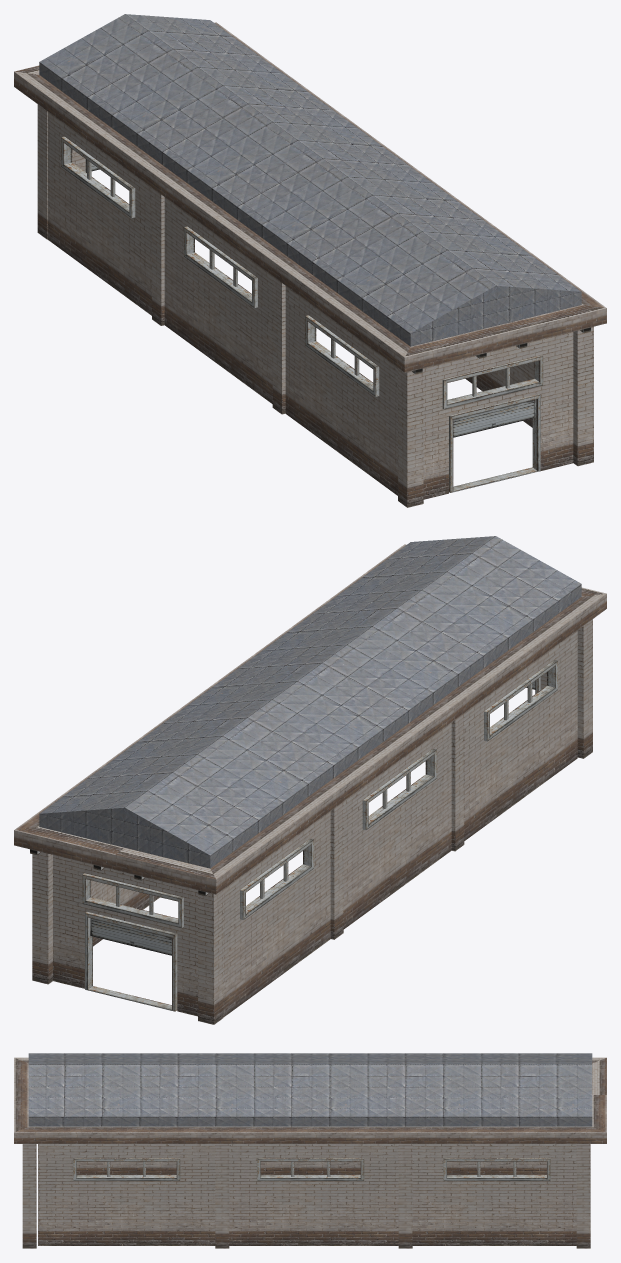
File: ind6_hall3_lod.dae
3 renders of one model, top to bottom at view 1: azimuth 30°, elevation 25°; view 2: azimuth 150°, elevation 25°; view 3: azimuth 270°, elevation 25°, orthographic. The views are drawn at different scales.
Parts seen in each view (by area): view 1: Mesh; view 2: Mesh; view 3: Mesh.
Part boxes in pixels (x1,y1,x2,y2): Mesh: (14,14,606,507); Mesh: (14,536,606,1024); Mesh: (14,1053,606,1248).
Size of the model in its own units: 12.28 by 11.41 by 41.1.
